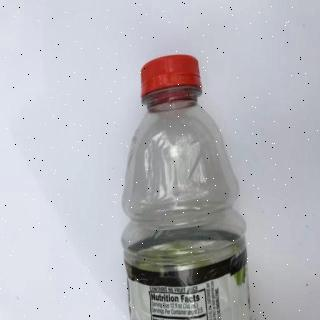Plastic-bottle: (121, 54, 253, 320)
